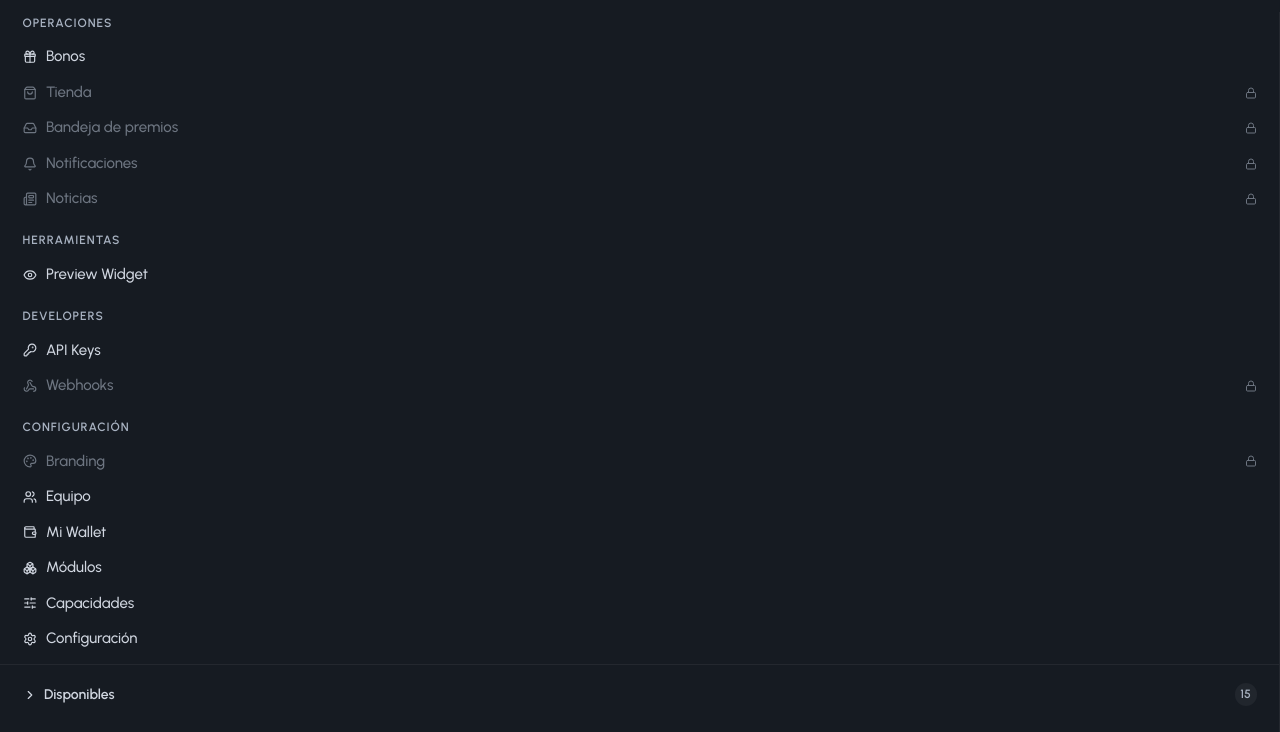
Test case: Sidebar billing › muestra módulos inactivos con lock y sección Disponibles
The image size is (1280, 732).
(page scrolled)
Click the text "Disponibles": (79, 695) [44, 684, 115, 705]
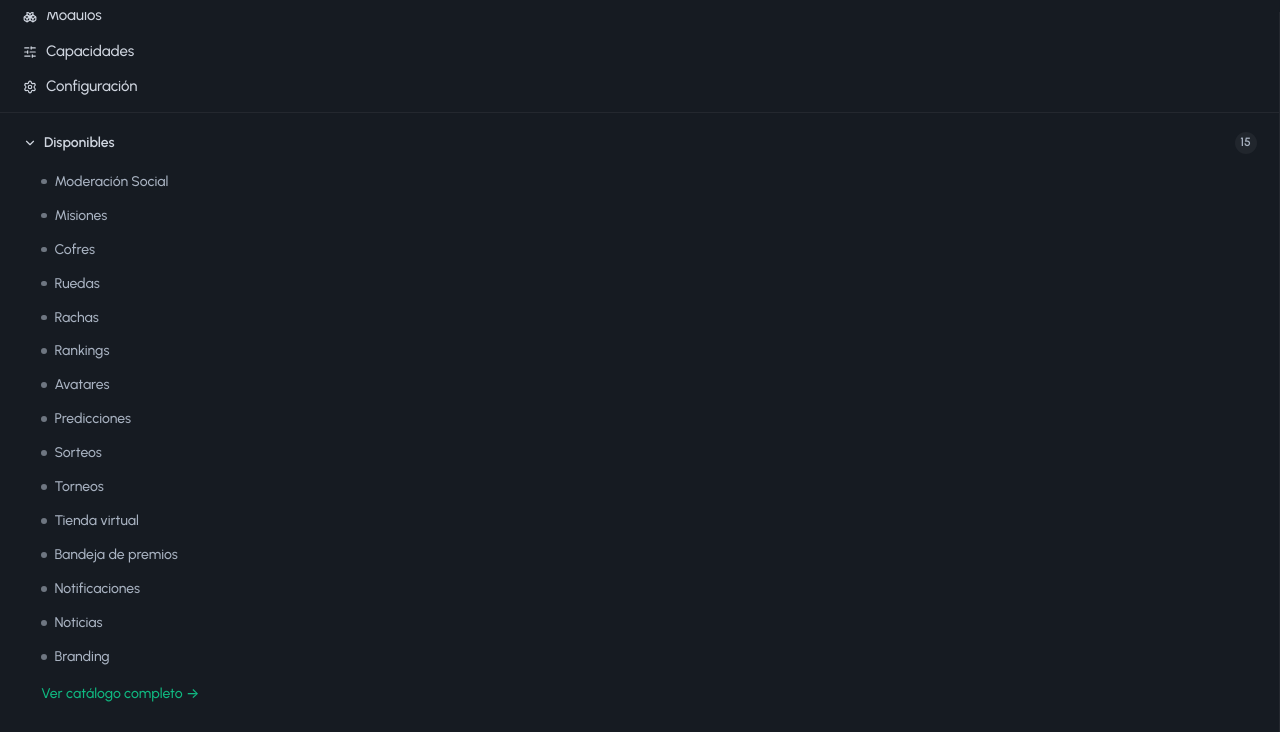
Expected: the link "Ver catálogo completo →" is shown, [41, 685, 199, 702]
